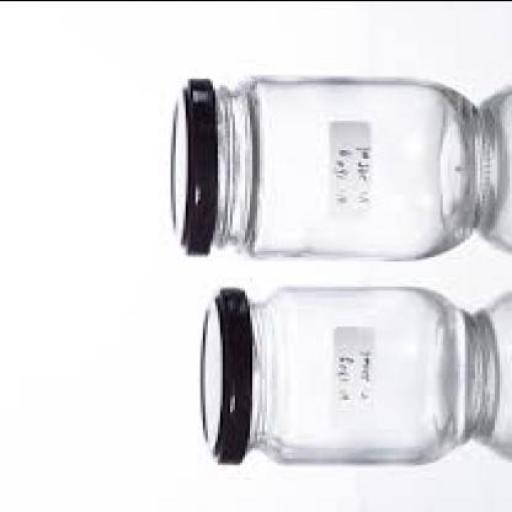glass: (213, 78, 490, 258), (245, 290, 480, 466)
metal: (198, 290, 248, 466), (168, 79, 210, 258)
